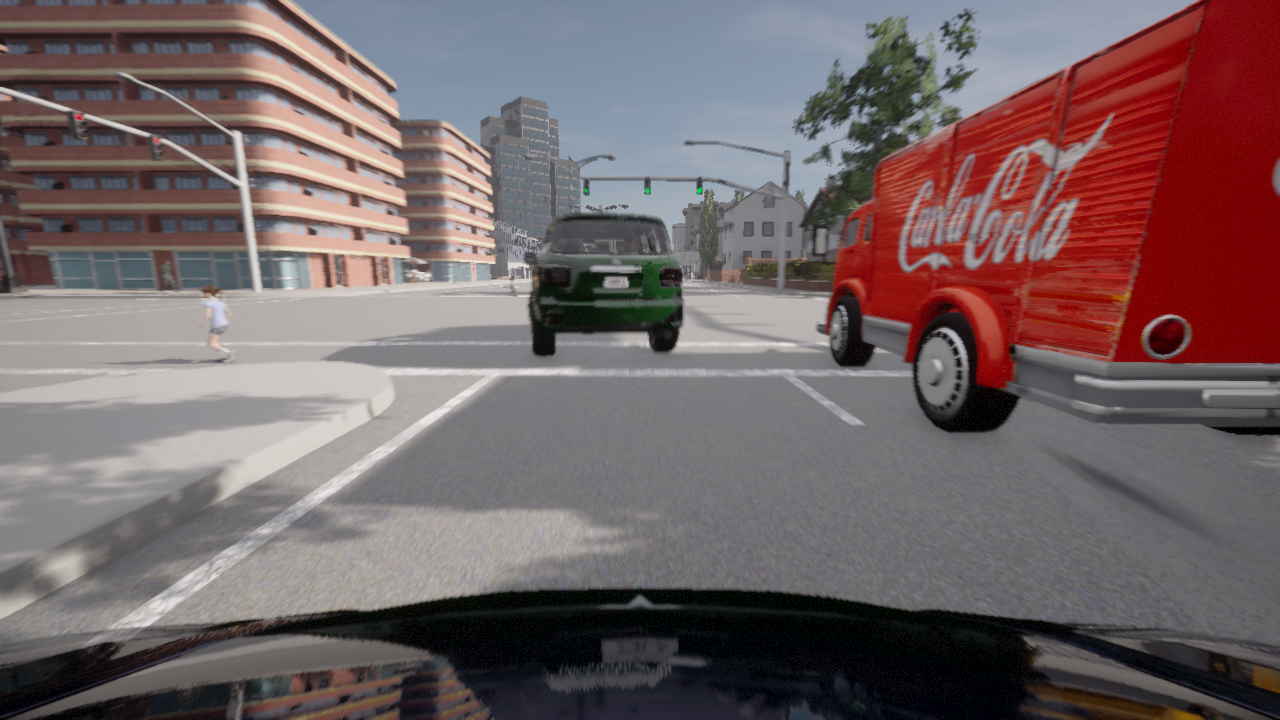cyclist: (812, 0, 1279, 434), (0, 588, 1279, 719), (524, 212, 683, 354)
pedestrian: (199, 286, 235, 362), (158, 259, 179, 292), (509, 277, 515, 295)
